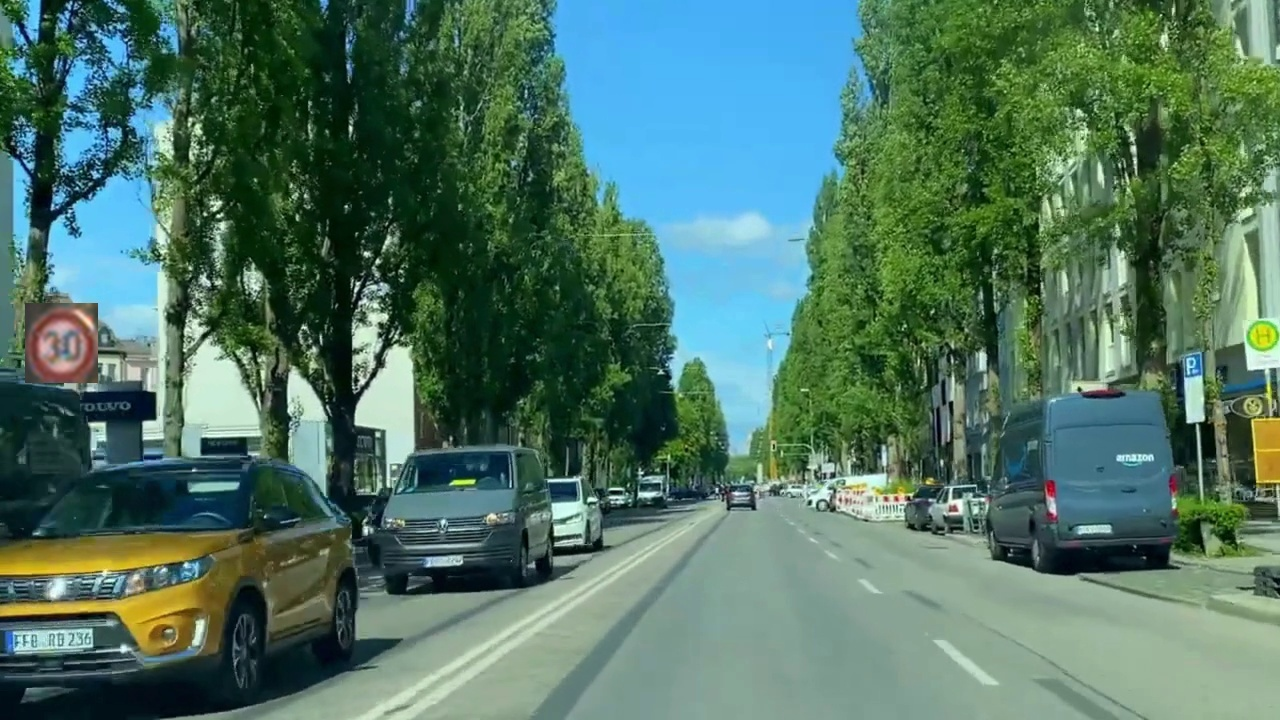Speed 30: (25, 303, 98, 383)
